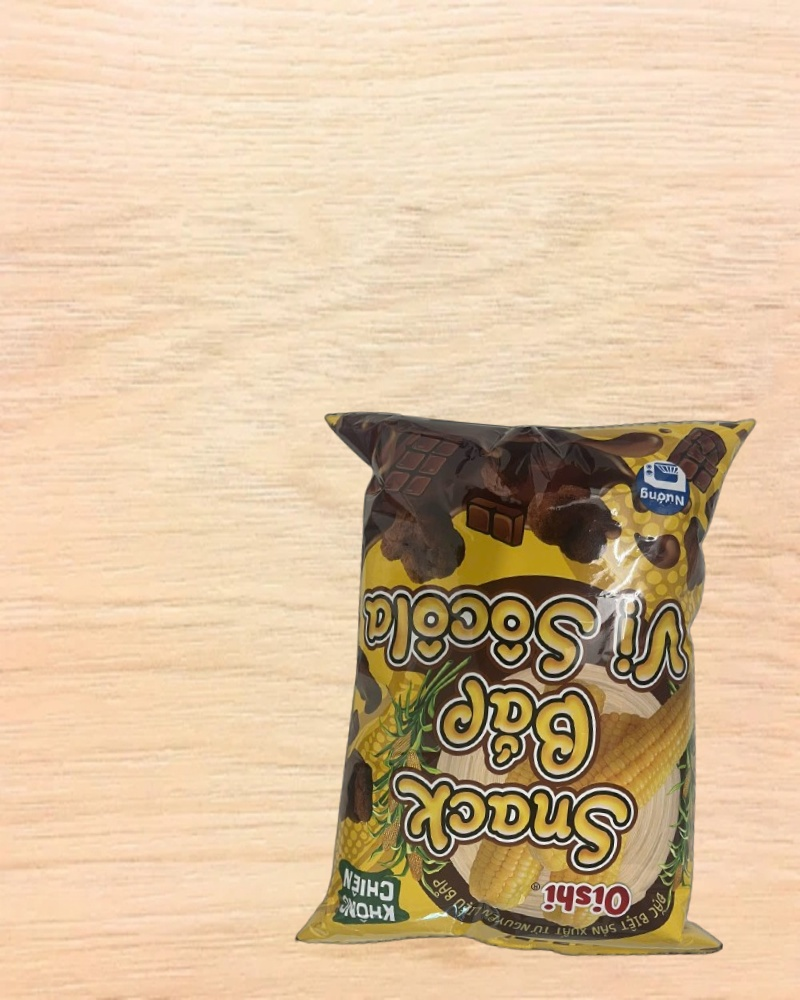Snack socola: (281, 386, 768, 978)
